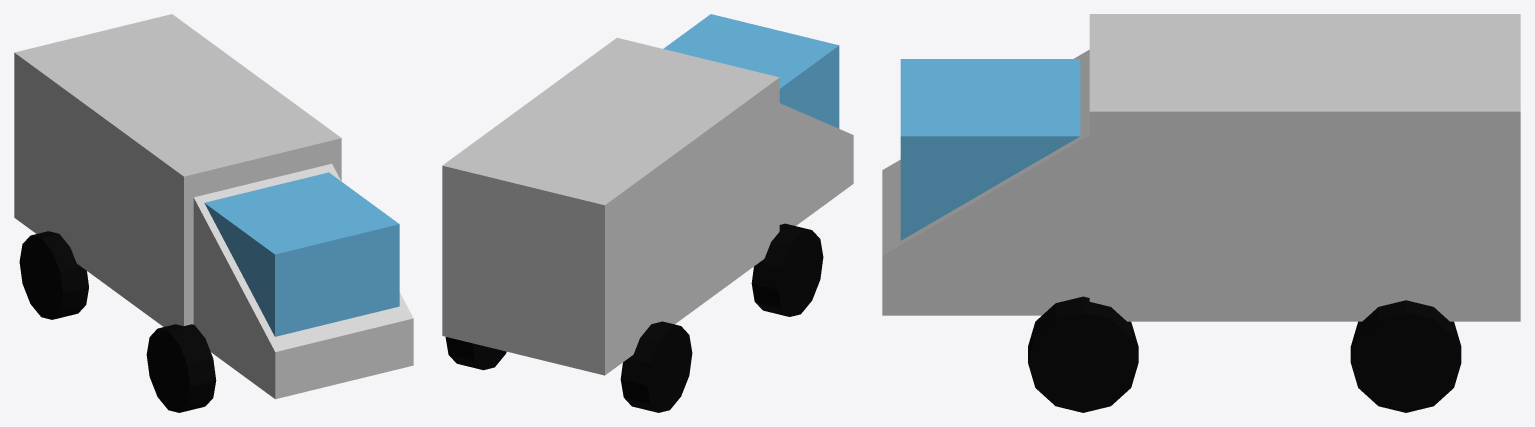
The model's file is truck_1.fbx.
3 renders of one model, left to right at view 1: azimuth 30°, elevation 25°; view 2: azimuth 150°, elevation 25°; view 3: azimuth 270°, elevation 25°, orthographic. The views are drawn at different scales.
Parts seen in each view (by area): view 1: truck_1; view 2: truck_1; view 3: truck_1.
Boxes of the visible parts, box(x1,y1,x2,y2) form: truck_1: box(14, 14, 413, 412); truck_1: box(442, 14, 853, 412); truck_1: box(882, 14, 1520, 412).
Bounding box in the file's own units: 551 × 248 × 275.
